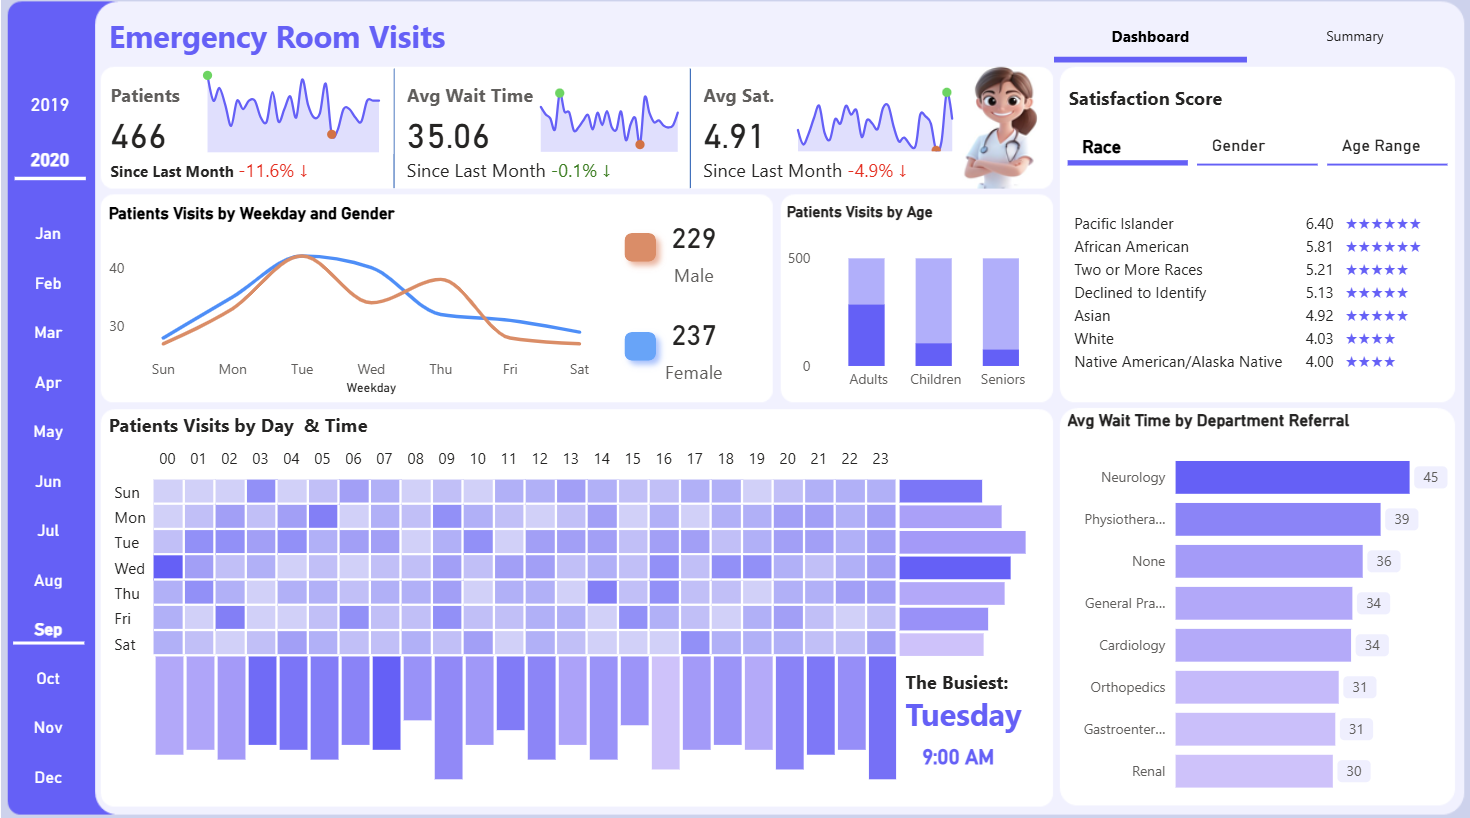

The dashboard page shown, as its layout file describes it:
{"tool":"powerbi","page":{"name":"Dashboard","canvas":[1280,720],"ordinal":0},"visuals":[{"type":"advancedSlicerVisual","fields":{"Values":["Calendar.Year"]},"box":[7,65.1,72.1,98.8],"z":0},{"type":"advancedSlicerVisual","fields":{"Values":["Calendar.Month"]},"box":[5.8,179.1,72.1,519.8],"z":1000},{"type":"cardVisual","fields":{"Data":["Measures (2).Patients Visits","Measures (2).Average Wait Time","Measures (2).Average Satisfaction Score"]},"box":[78.8,56.1,776.4,114.9],"z":2000},{"type":"areaChart","fields":{"Y":["All Measure.Patients Visits","All Measure.Patients Visits Max Value","All Measure.Patients Visits Min Value"],"Category":["Calendar.Day"]},"box":[158.9,45.6,184.4,93.3],"z":3000},{"type":"areaChart","fields":{"Category":["Calendar.Day"],"Y":["All Measure.Avg Wait Time","All Measure.Avg Wait Time Max Value","All Measure.Avg Wait Time Min Value"]},"box":[450,65.6,153.3,73.3],"z":4000},{"type":"areaChart","fields":{"Y":["All Measure.Avg Satisfaction Score","All Measure.Avg Satisfaction Score Max Value","All Measure.Avg Satisfaction Score Min Value"],"Category":["Calendar.Day"]},"box":[673.3,56.7,168.9,82.2],"z":5000},{"type":"lineChart","fields":{"Y":["All Measure.Patients Visits"],"Category":["Calendar.Weekday"],"Series":["Emergency Room Visits Dataset.Gender"]},"box":[88.2,179.1,443.7,171.1],"z":6000},{"type":"card","fields":{"Values":["All Measure.Patients Visits"]},"box":[531.6,171.8,142.6,92.4],"z":7000},{"type":"card","fields":{"Values":["All Measure.Patients Visits"]},"box":[531.6,257.7,142.6,92.4],"z":8000},{"type":"shape","box":[532.5,195,47.5,45],"z":9000},{"type":"shape","box":[532.5,281.2,47.5,45],"z":10000},{"type":"clusteredColumnChart","title":"Patients Visits by Age","fields":{"Y":["All Measure.Patients Visits","All Measure.Patient Visits Dummy"],"Category":["Emergency Room Visits Dataset.Age Range"]},"box":[678.9,178.9,238.9,171.1],"z":11000},{"type":"textbox","box":[88.9,8.9,321.1,56.7],"z":12000},{"type":"tableEx","fields":{"Values":["Emergency Room Visits Dataset.Race","All Measure.Avg Satisfaction Score","All Measure.Score Rating"]},"box":[922.8,152,342.9,200.6],"z":13000},{"type":"advancedSlicerVisual","fields":{"Values":["Satisfaction_Param.Satisfaction_Param"]},"box":[922.8,102.1,342.9,49.8],"z":14000},{"type":"clusteredBarChart","fields":{"Y":["All Measure.Avg Wait Time"],"Category":["Emergency Room Visits Dataset.Department Referral"]},"box":[923.3,359.4,342.1,348.3],"z":15000},{"type":"pivotTable","fields":{"Rows":["Calendar.Weekday"],"Columns":["Emergency Room Visits Dataset.Hour"],"Values":["All Measure.Patients Visits"]},"box":[88.8,385.5,753.4,214.6],"z":16000},{"type":"clusteredBarChart","fields":{"Category":["Calendar.Weekday"],"Y":["All Measure.Patients Visits"]},"box":[777.1,406.3,140.6,171.7],"z":17000},{"type":"clusteredColumnChart","fields":{"Y":["All Measure.Patients Visits"],"Category":["Emergency Room Visits Dataset.Hour"]},"box":[128.9,559.3,655.3,148.3],"z":18000},{"type":"card","fields":{"Values":["All Measure.Busiest Time"]},"box":[781,643.6,104,33.8],"z":19000},{"type":"textbox","box":[782.2,578.3,176.5,82.2],"z":20000},{"type":"textbox","box":[88.8,355,284.5,38.9],"z":20001},{"type":"textbox","box":[924,70.5,284.5,38.9],"z":20002},{"type":"pageNavigator","box":[916.7,8.5,346.5,47.4],"z":20003}]}

Visuals, with their boxes in screenshot pixels (x1, y1, x2, y2), scaled from the page's 1280x720 canvas onto the 1470x818 screenshot:
advancedSlicerVisual - Calendar.Year: <region>8, 74, 91, 186</region>
advancedSlicerVisual - Calendar.Month: <region>7, 203, 89, 794</region>
cardVisual - Measures (2).Patients Visits x Measures (2).Average Wait Time: <region>90, 64, 982, 194</region>
areaChart - All Measure.Patients Visits x All Measure.Patients Visits Max Value: <region>182, 52, 394, 158</region>
areaChart - Calendar.Day x All Measure.Avg Wait Time: <region>517, 75, 693, 158</region>
areaChart - All Measure.Avg Satisfaction Score x All Measure.Avg Satisfaction Score Max Value: <region>773, 64, 967, 158</region>
lineChart - All Measure.Patients Visits x Calendar.Weekday: <region>101, 203, 611, 398</region>
card - All Measure.Patients Visits: <region>611, 195, 774, 300</region>
card - All Measure.Patients Visits: <region>611, 293, 774, 398</region>
shape: <region>612, 222, 666, 273</region>
shape: <region>612, 319, 666, 371</region>
"Patients Visits by Age" clusteredColumnChart: <region>780, 203, 1054, 398</region>
textbox: <region>102, 10, 471, 75</region>
tableEx - Emergency Room Visits Dataset.Race x All Measure.Avg Satisfaction Score: <region>1060, 173, 1454, 401</region>
advancedSlicerVisual - Satisfaction_Param.Satisfaction_Param: <region>1060, 116, 1454, 173</region>
clusteredBarChart - All Measure.Avg Wait Time x Emergency Room Visits Dataset.Department Referral: <region>1060, 408, 1453, 804</region>
pivotTable - Calendar.Weekday x Emergency Room Visits Dataset.Hour: <region>102, 438, 967, 682</region>
clusteredBarChart - Calendar.Weekday x All Measure.Patients Visits: <region>892, 462, 1054, 657</region>
clusteredColumnChart - All Measure.Patients Visits x Emergency Room Visits Dataset.Hour: <region>148, 635, 901, 804</region>
card - All Measure.Busiest Time: <region>897, 731, 1016, 770</region>
textbox: <region>898, 657, 1101, 750</region>
textbox: <region>102, 403, 429, 448</region>
textbox: <region>1061, 80, 1388, 124</region>
pageNavigator: <region>1053, 10, 1451, 64</region>
